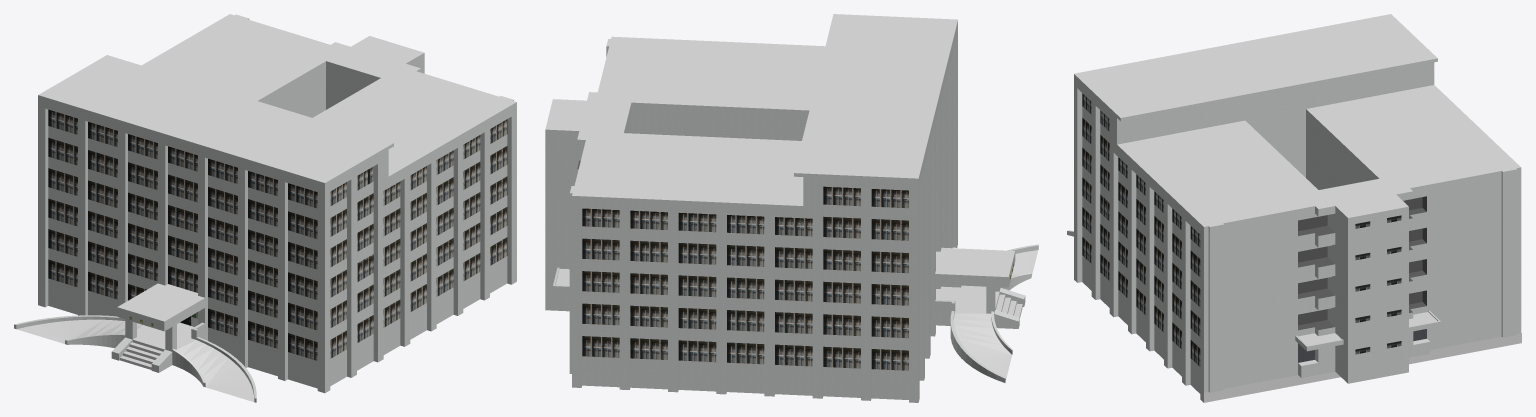
File: 電機館.glb
3 views of the same model, side by side, from view 1: azimuth 30°, elevation 25°; view 2: azimuth 150°, elevation 25°; view 3: azimuth 270°, elevation 25° (orthographic). The views are drawn at different scales.
Parts seen in each view (by area): view 1: G-Object; view 2: G-Object; view 3: G-Object.
Part boxes in pixels (x1,y1,x2,y2): G-Object: [14, 14, 516, 402]; G-Object: [545, 14, 1038, 402]; G-Object: [1067, 14, 1521, 402].
Size of the model in its own units: 51.47 by 23.71 by 47.47.
Materials: 9 (5 with a texture image).
